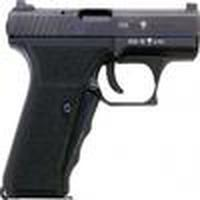gun: (2, 6, 200, 195)
